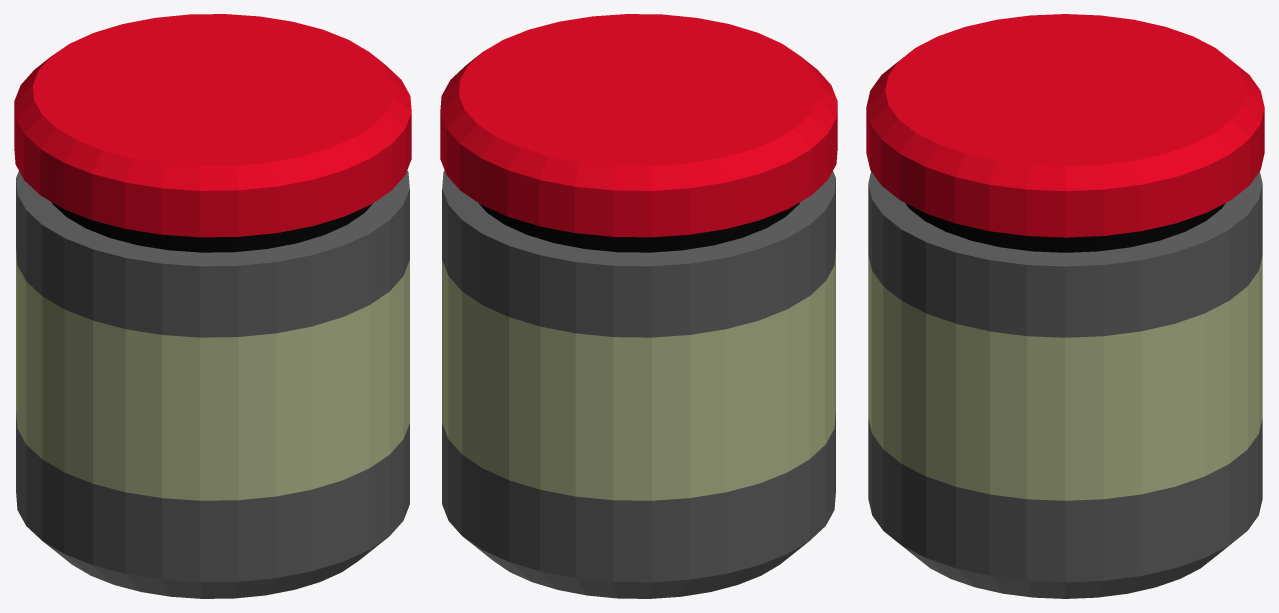
Rendered from plant_gel.fbx.
3 renders of one model, left to right at view 1: azimuth 30°, elevation 25°; view 2: azimuth 150°, elevation 25°; view 3: azimuth 270°, elevation 25°, orthographic.
Visible parts, largest first — view 1: Cylinder; view 2: Cylinder; view 3: Cylinder.
Boxes of the visible parts, x1,y1,x2,y2 form: Cylinder: (14, 14, 411, 598); Cylinder: (440, 14, 837, 598); Cylinder: (866, 14, 1264, 598).
Size of the model in its own units: 54.56 by 66.54 by 54.56.
